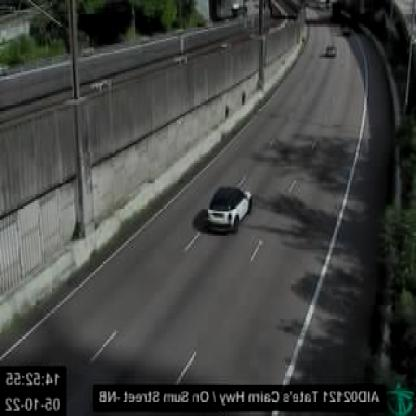Car: (206, 186, 252, 232), (325, 44, 339, 58)
